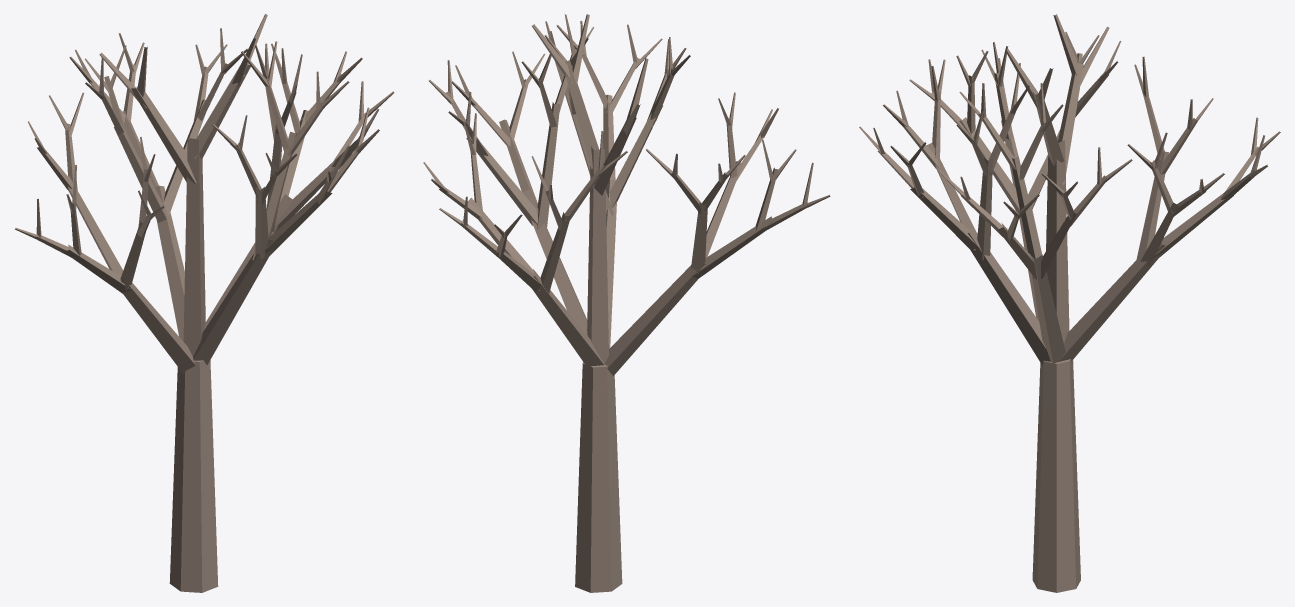
File: tree-broadleaf-b-bare.glb
3 renders of one model, left to right at view 1: azimuth 30°, elevation 25°; view 2: azimuth 150°, elevation 25°; view 3: azimuth 270°, elevation 25°, orthographic. The views are drawn at different scales.
Parts seen in each view (by area): view 1: tree-broadleaf-b-bare; view 2: tree-broadleaf-b-bare; view 3: tree-broadleaf-b-bare.
Part boxes in pixels (x1,y1,x2,y2): tree-broadleaf-b-bare: (15, 14, 394, 592); tree-broadleaf-b-bare: (423, 14, 830, 592); tree-broadleaf-b-bare: (859, 14, 1280, 592).
Size of the model in its own units: 0.8159 by 1.13 by 0.7868.
